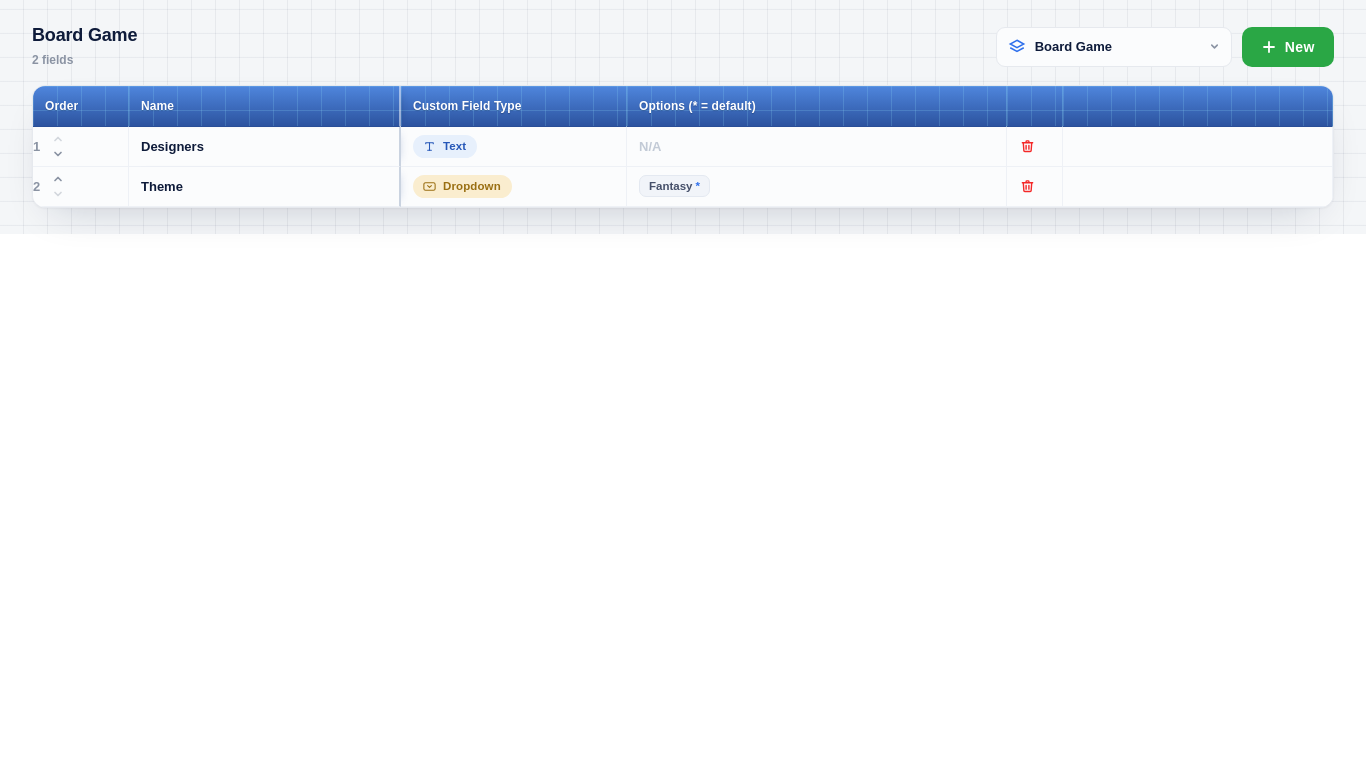
Test: CustomFieldsManager › deletes a field via the row delete button
Expected: the button "Designers" is shown, [135,136,393,157]
Click the button named "Delete Designers".
click(1027, 146)  # box [1013,132,1041,160]
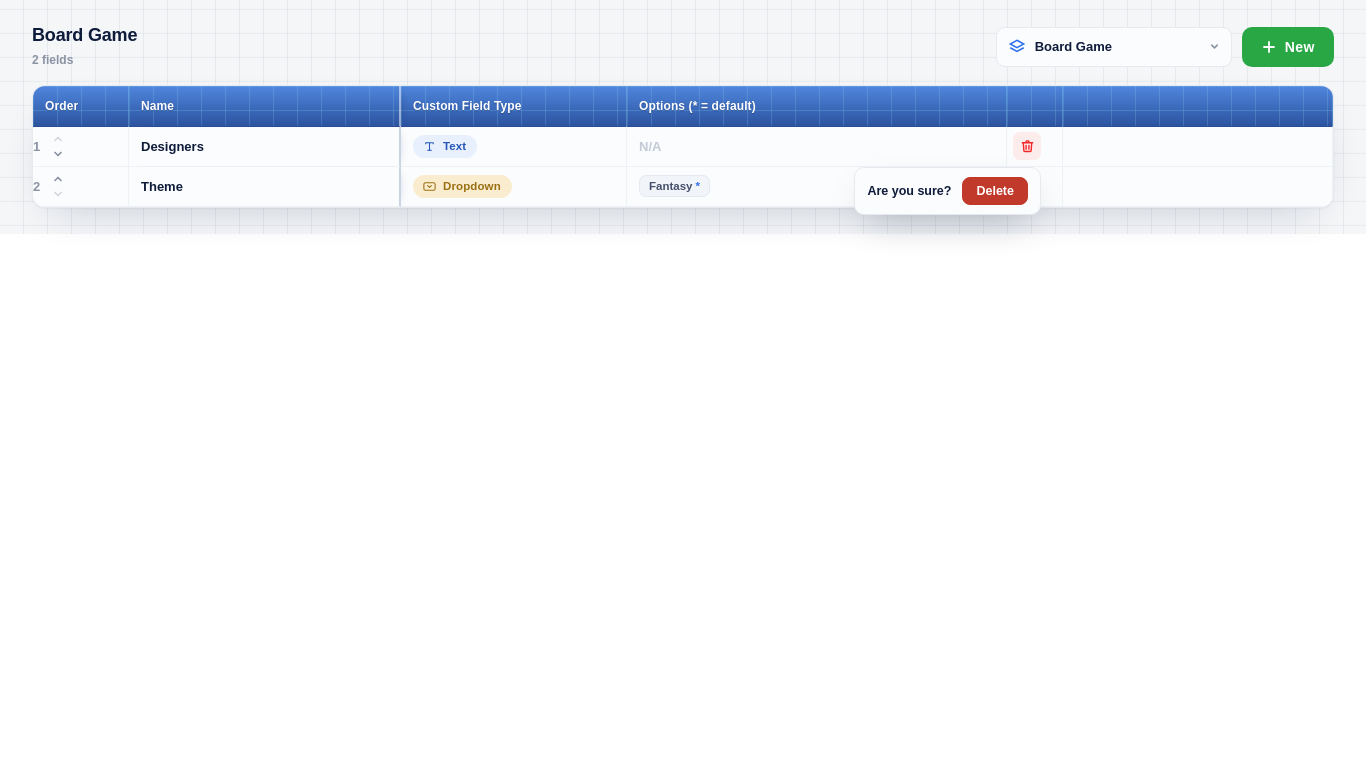
Click the menu item "Delete".
click(995, 191)  # box [962,177,1028,205]
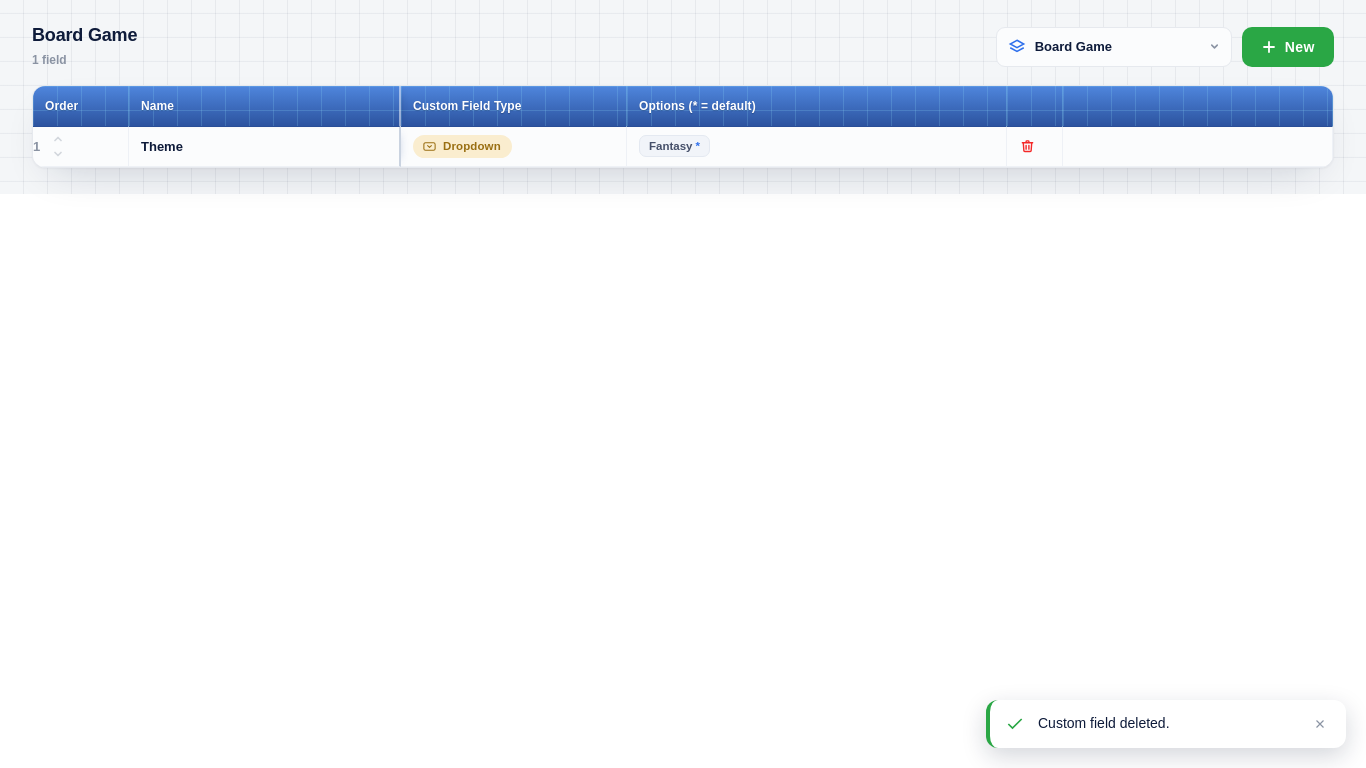
Result: the button "Designers" is gone
